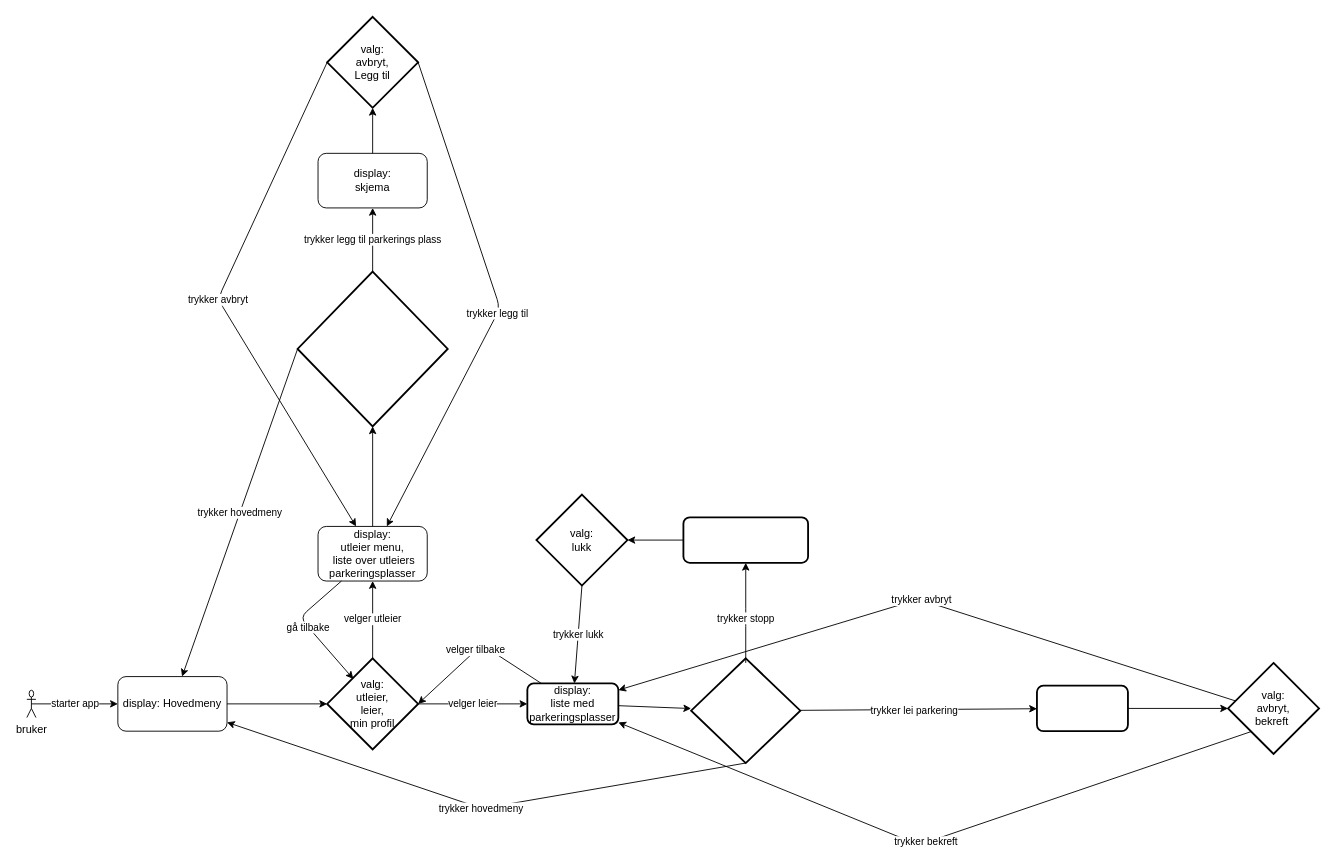
This 1342x868 diagram has some shape labels left out. Here are the shapes that lost their labels. From the top down, the box of each, then its label:
(296, 270, 448, 427): valg: HovedMeny, Legg til parkeringsplass, Se detaljert
(682, 516, 809, 563): display: info of your stopped parking
(690, 657, 801, 763): valg: lei parkering, stopp, hovedmeny
(1036, 684, 1128, 732): display: parkeringsplass i detail
